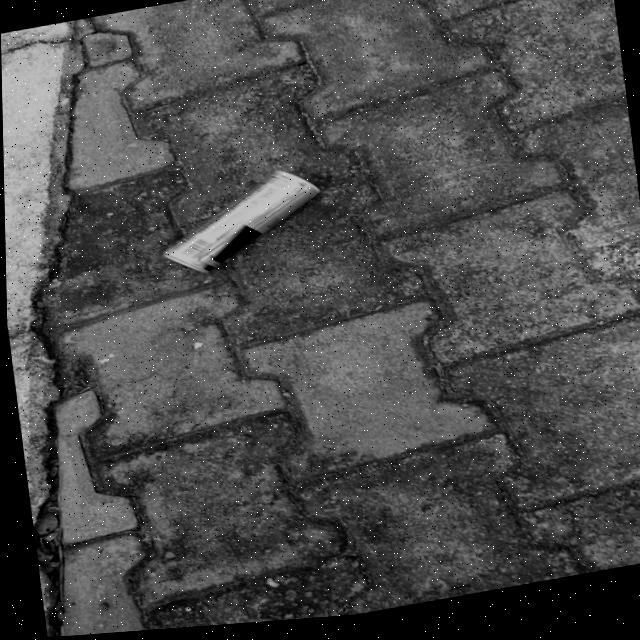Redbul: (153, 164, 328, 275)
